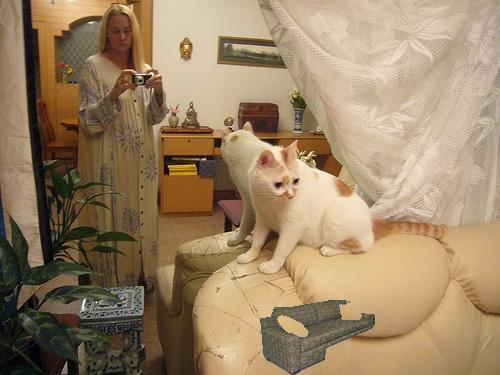tampered: (261, 301, 375, 375)
